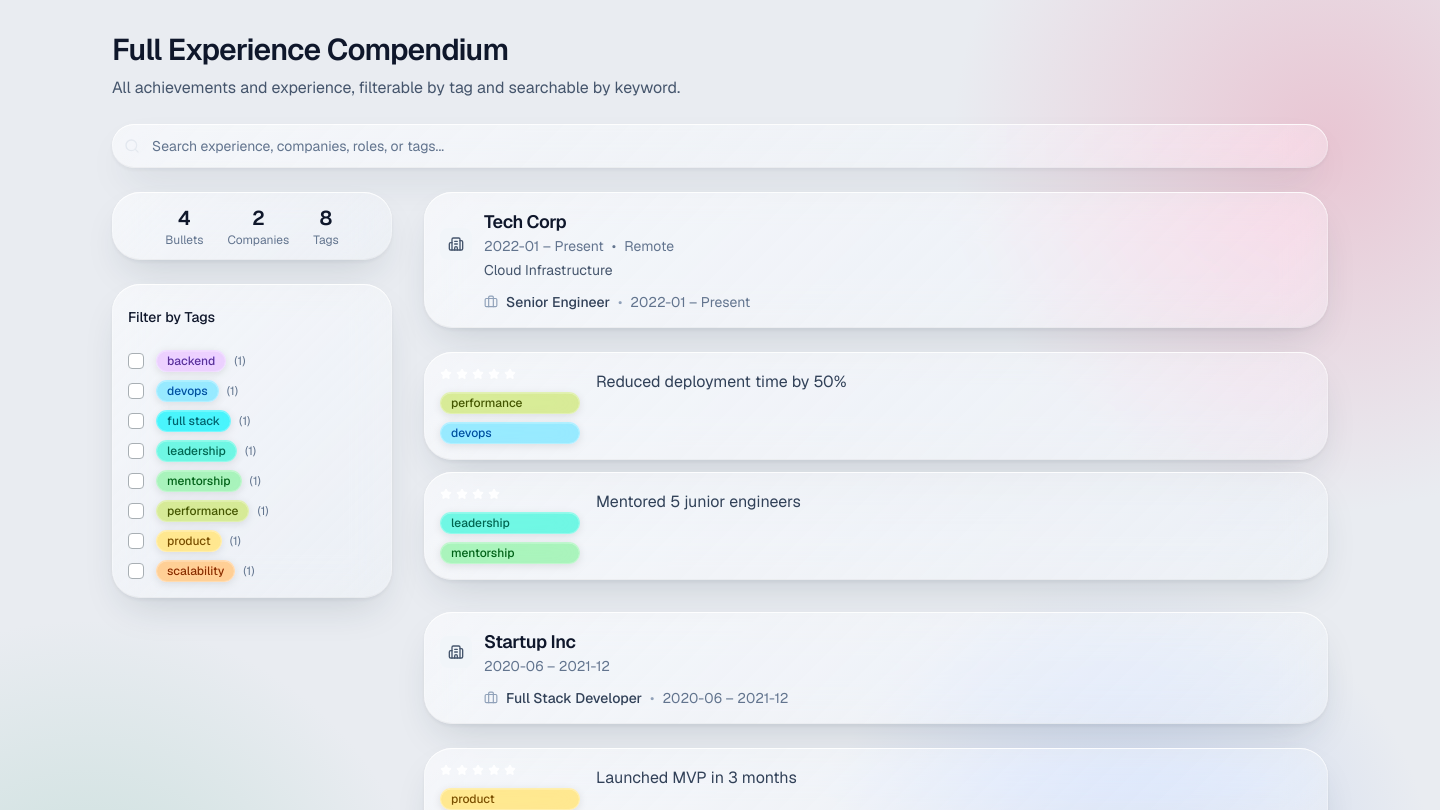
it: DataExplorer › should filter bullets by search query
Step 1. Type "deployment" into the field with placeholder "Search experience, companies, roles, or tags..." → (720, 146), box 112,124 -> 1328,168
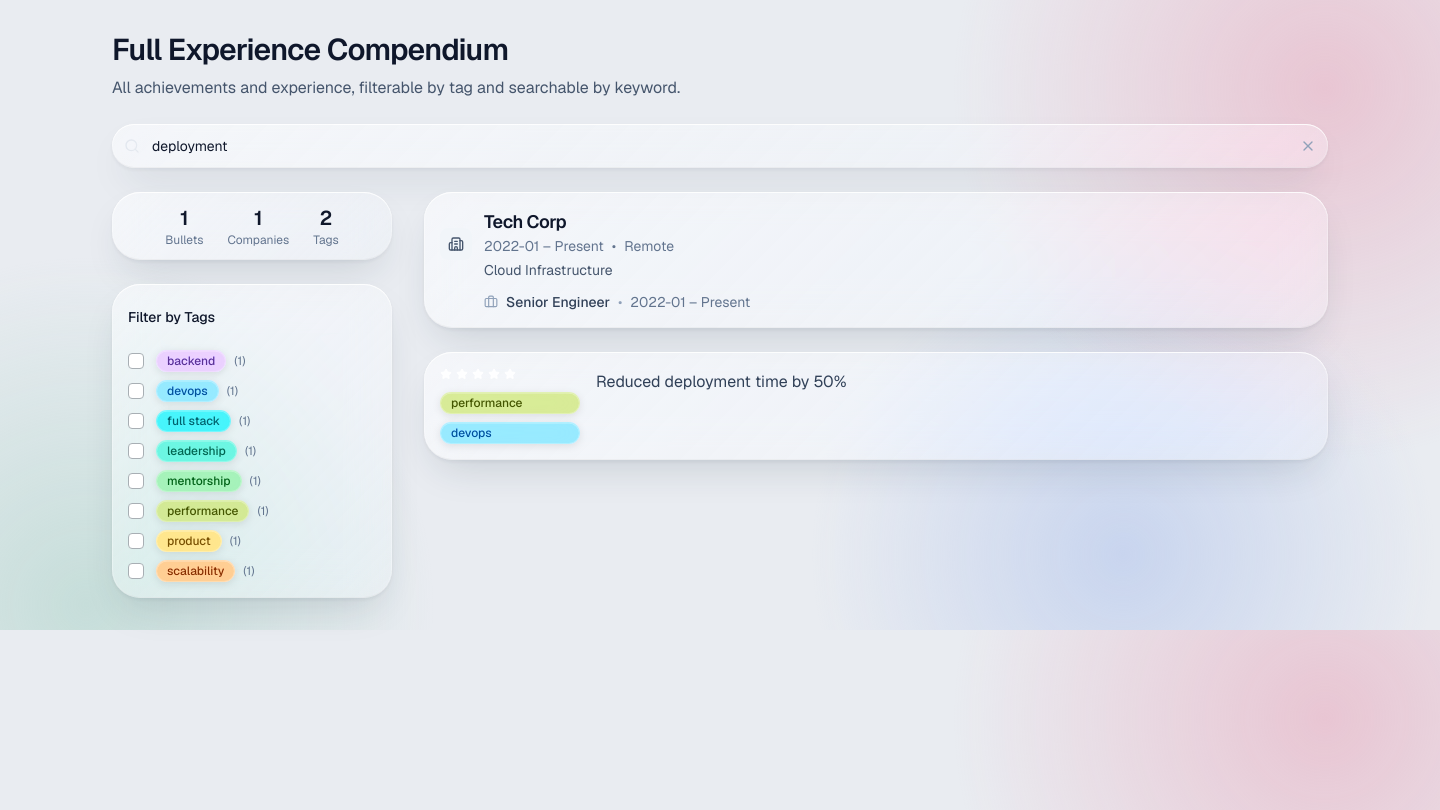
Expected: the text "Reduced deployment time by 50%" is shown, 596,371 -> 847,392
Expected: the text "Mentored 5 junior engineers" is gone
Expected: the text "Launched MVP in 3 months" is gone
